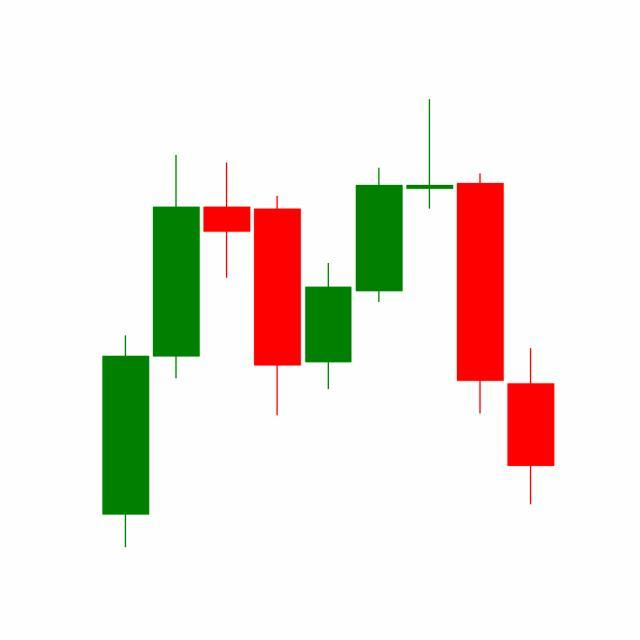Hikkake Pattern: (302, 100, 555, 511)
